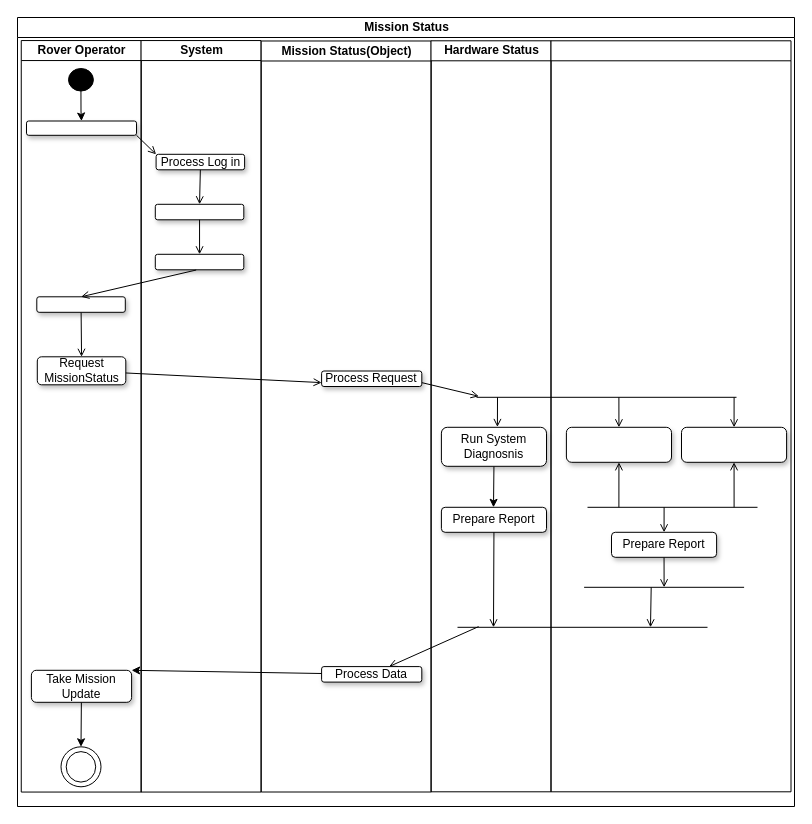
Image size: 812x824. Some labels were removed from this diagram. The shapes that lost their labels are listed below. From the top down, each one's centre as x and y in pixels, then its label:
At pixel 82 129: "Request Log In".
At pixel 200 213: "Verify Log in".
At pixel 200 263: "Confirm user".
At pixel 81 305: "Give Access".
At pixel 670 416: "System Sensors".
At pixel 619 445: "Run Weather Module".
At pixel 734 445: "Run Visibility Module".
